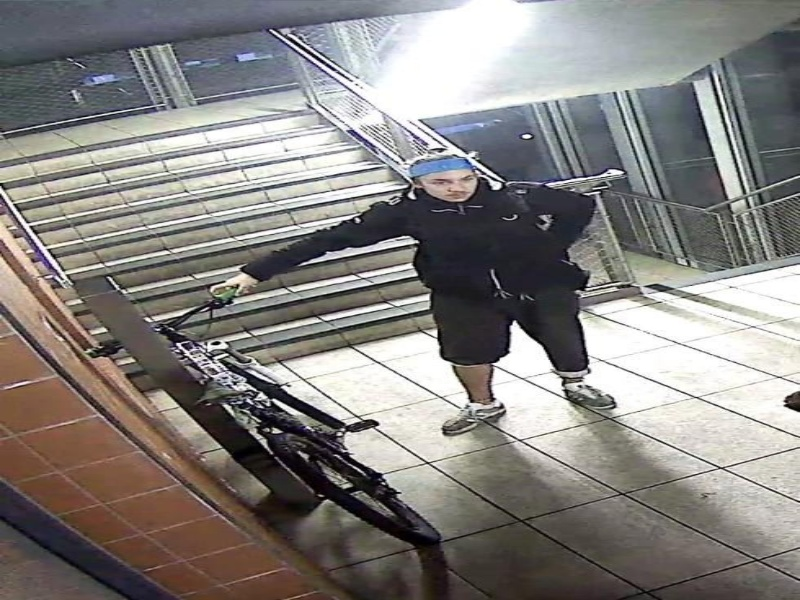person: (356, 139, 630, 436)
